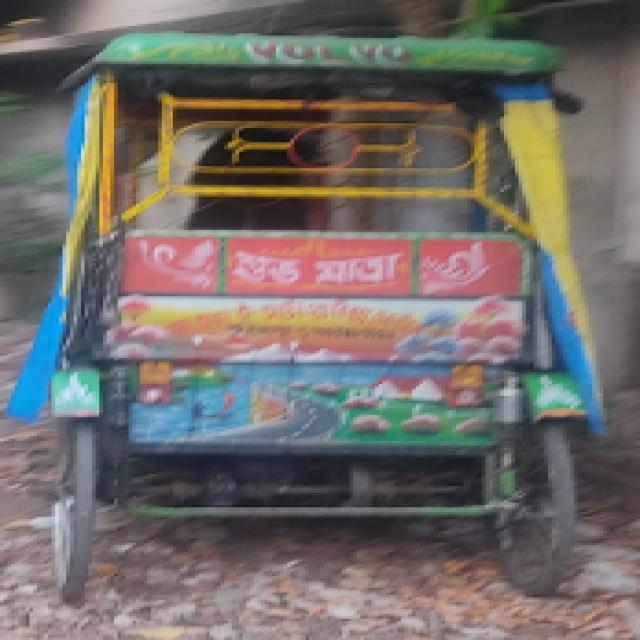rickshaw: (28, 28, 605, 611)
